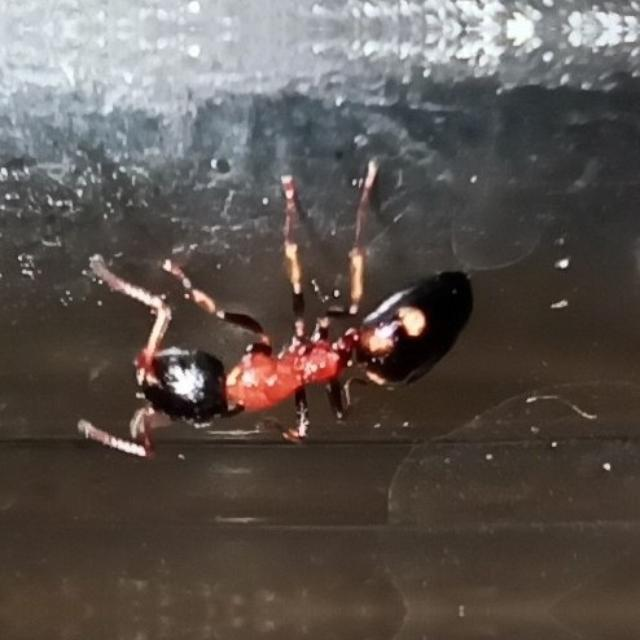Dolichoderus: (85, 186, 529, 472)
